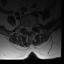CCS_normal: (28, 24, 29, 33)
LFS_normal: (31, 23, 33, 29)
LLS_normal: (30, 24, 31, 32)
RFS_normal: (23, 23, 25, 29)
RLS_normal: (26, 24, 28, 32)
